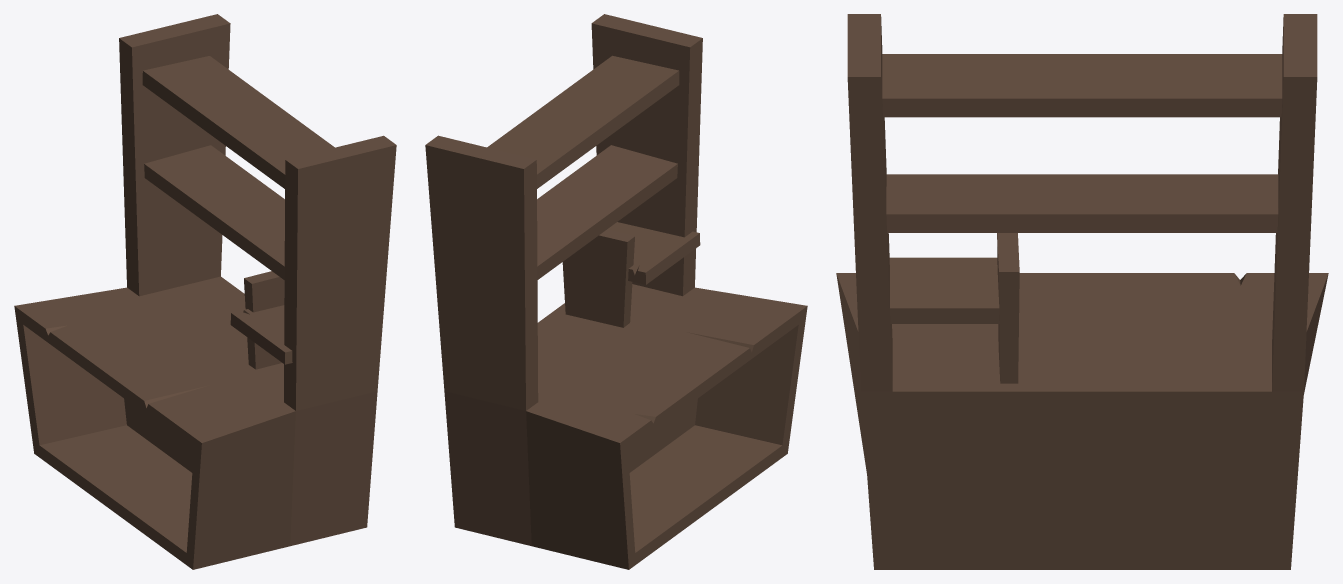
Rendered from cabinet.fbx.
3 views of the same model, side by side, from view 1: azimuth 30°, elevation 25°; view 2: azimuth 150°, elevation 25°; view 3: azimuth 270°, elevation 25° (orthographic). The views are drawn at different scales.
Visible parts, largest first — view 1: cabinet; view 2: cabinet; view 3: cabinet.
Boxes of the visible parts, left/top/right/bottom form: cabinet: left=14, top=14, right=396, bottom=569; cabinet: left=425, top=14, right=807, bottom=569; cabinet: left=836, top=14, right=1328, bottom=569.
Size of the model in its own units: 80.69 by 149 by 132.
Materials: 1 (1 with a texture image).
